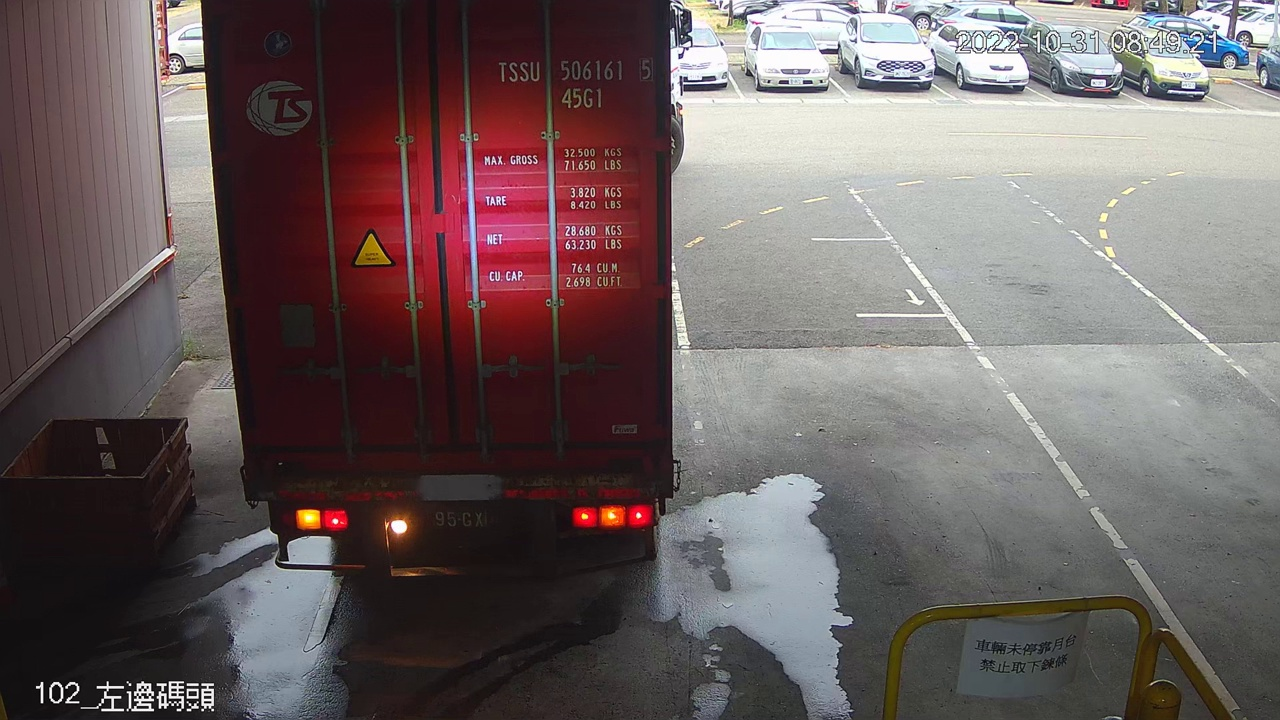container: (488, 49, 660, 114)
